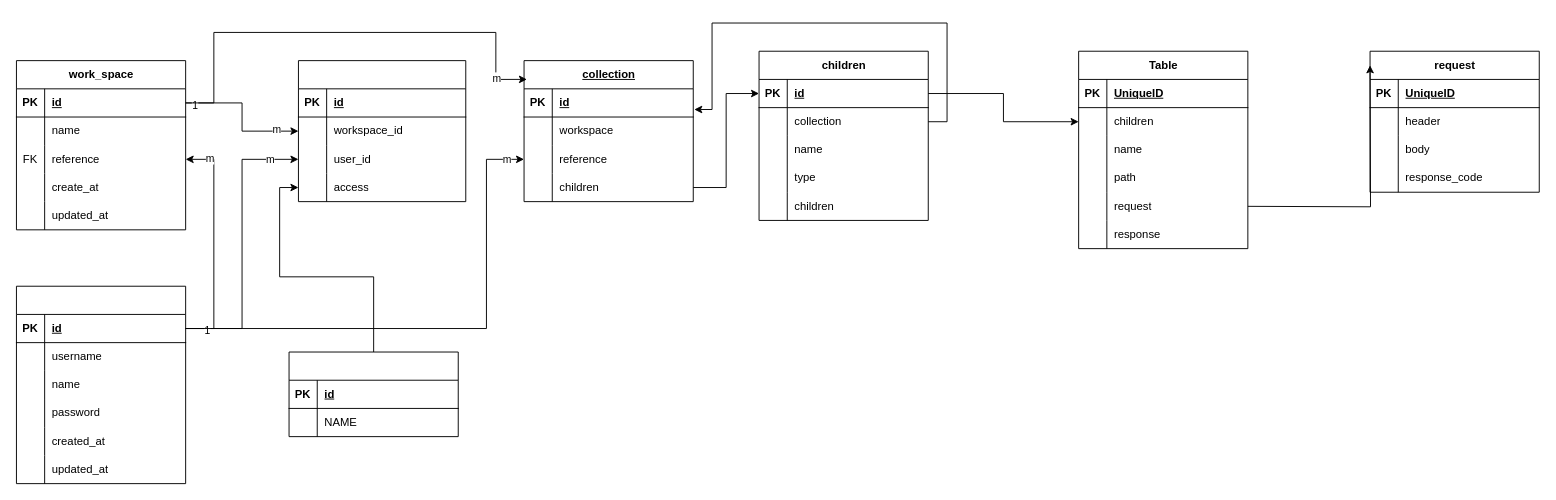
The diagram is 1556 pixels wide and 500 high, and some of its shapes have lost their labels. Each missing label, with the box of its shape:
acces: (288, 351, 458, 437)
member: (298, 60, 466, 202)
users: (16, 285, 186, 484)
